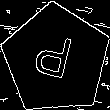P_S: (33, 30, 80, 89)
